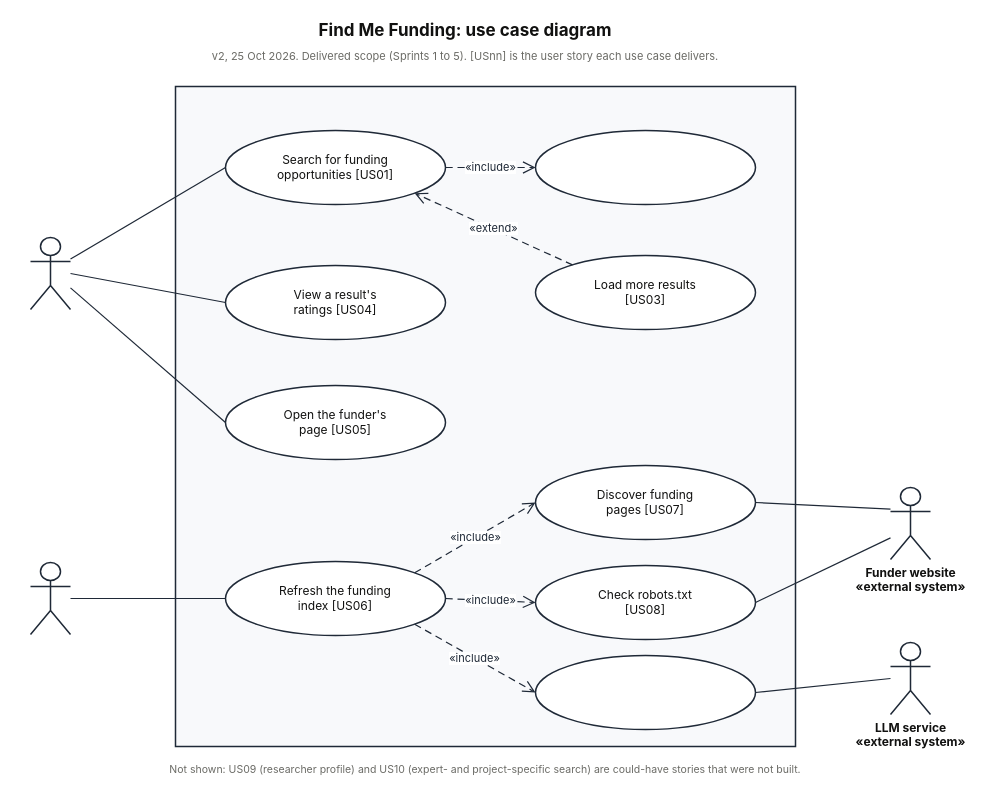
The diagram is 983 pixels wide and 797 high, and some of its shapes have lost their labels. The shapes that lost their labels are listed below. From the top down, each one's box as (x1, y1, x2, y2) in pixels, then its label:
(534, 129, 756, 205): Rank opportunities [US02]
(29, 236, 71, 310): Researcher
(174, 85, 796, 747): Find Me Funding
(29, 561, 71, 635): Scheduler «timer»
(534, 654, 756, 730): Extract opportunity details [US06]
